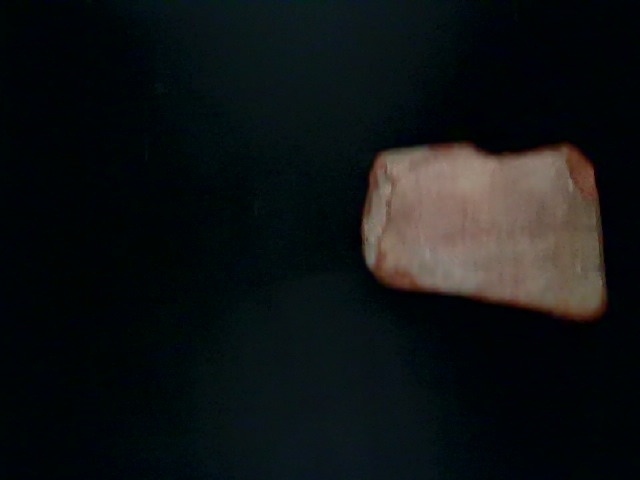KHSLJ: (310, 370, 620, 480)
